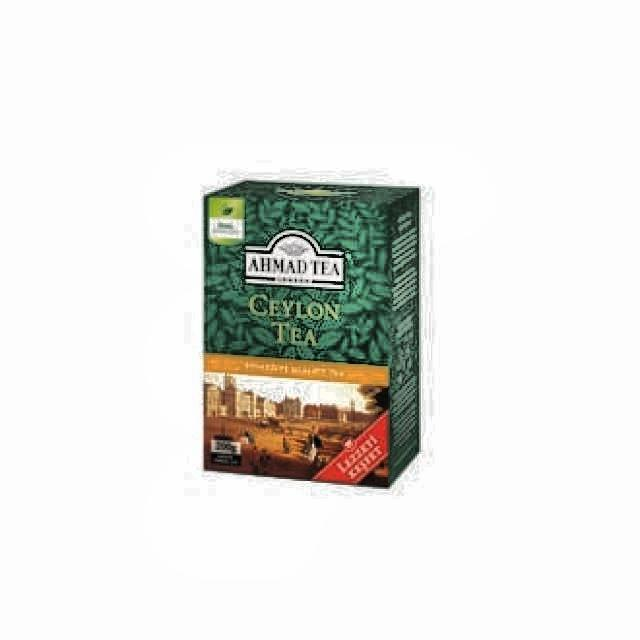cardboard: (201, 181, 422, 489)
